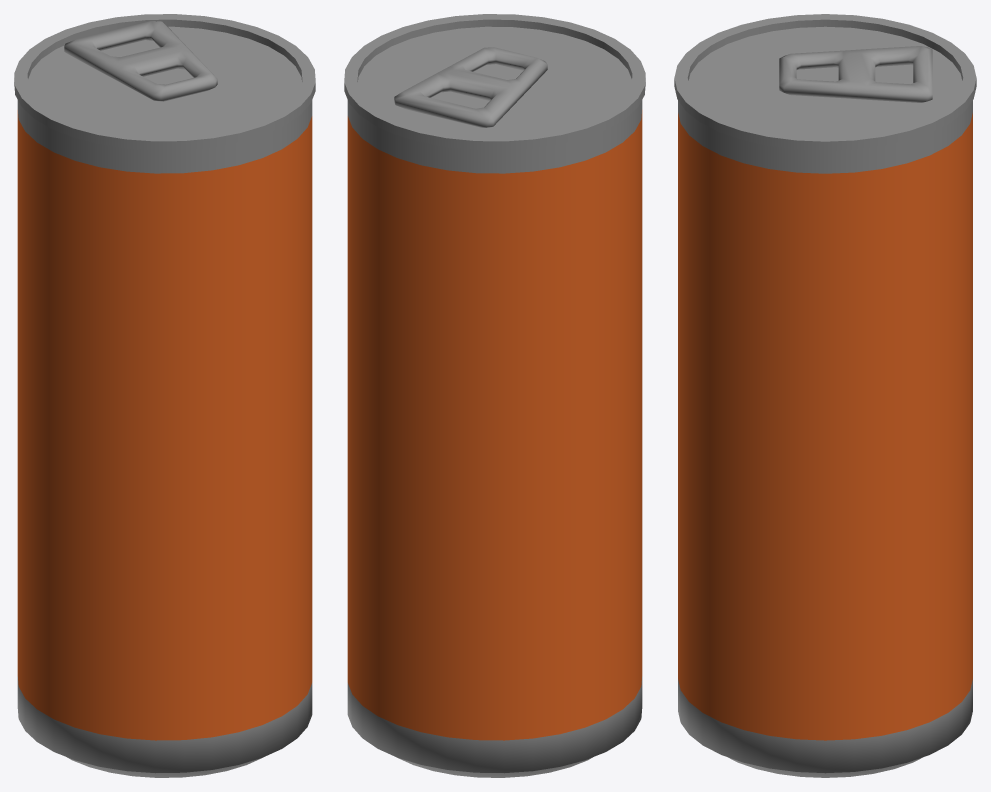
The model's file is energyDrink.fbx.
The picture shows the model from 3 angles, left to right: view 1: azimuth 30°, elevation 25°; view 2: azimuth 150°, elevation 25°; view 3: azimuth 270°, elevation 25°; orthographic projection.
Parts seen in each view (by area): view 1: Energy Drink; view 2: Energy Drink; view 3: Energy Drink.
Boxes of the visible parts, box(x1,y1,x2,y2) form: Energy Drink: box(14, 14, 315, 777); Energy Drink: box(344, 14, 645, 777); Energy Drink: box(674, 14, 976, 777).
Size of the model in its own units: 205 by 205 by 492.
